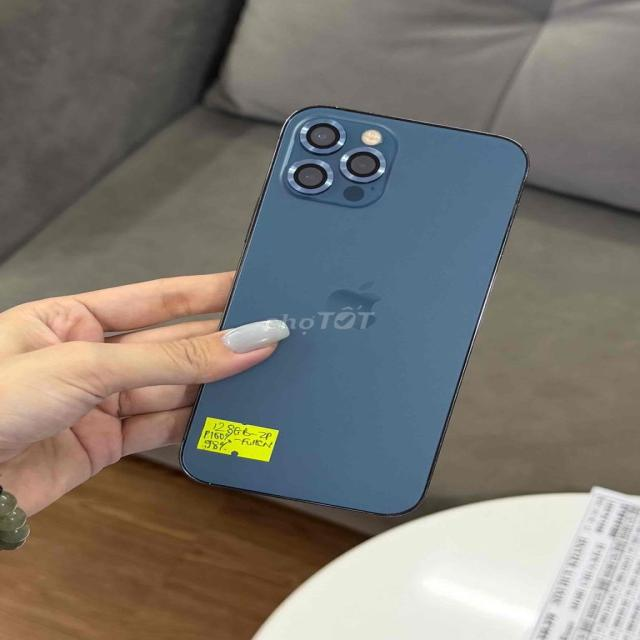gen_12_13: (168, 101, 534, 512)
